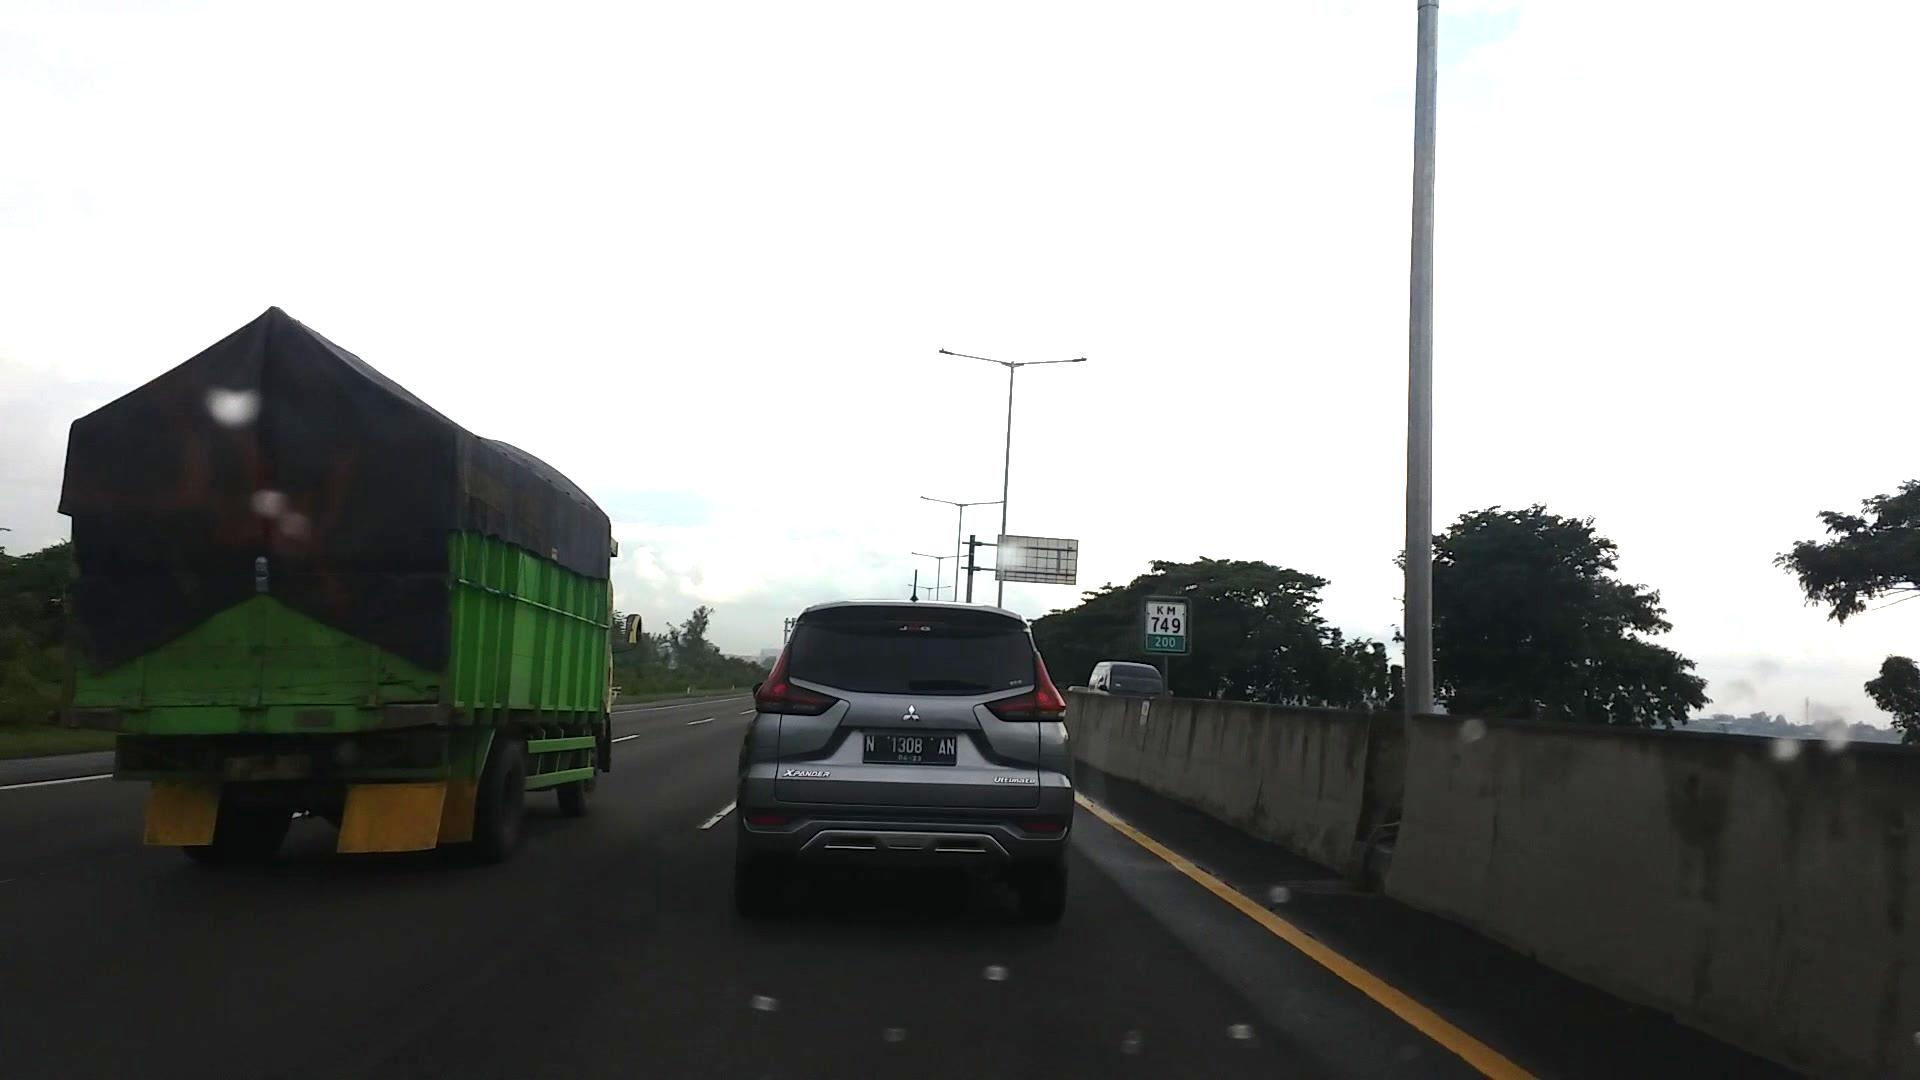plate_positive: (862, 732, 957, 765)
